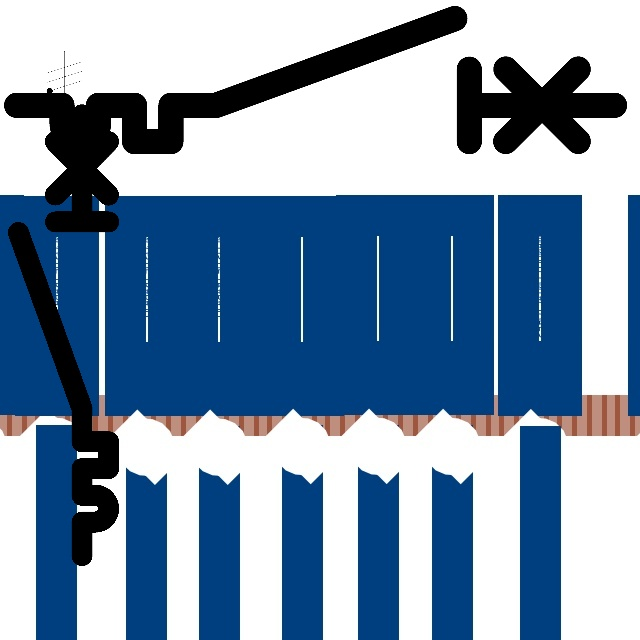interruptor_termomagnetico: (1, 3, 630, 157), (7, 103, 120, 567)
